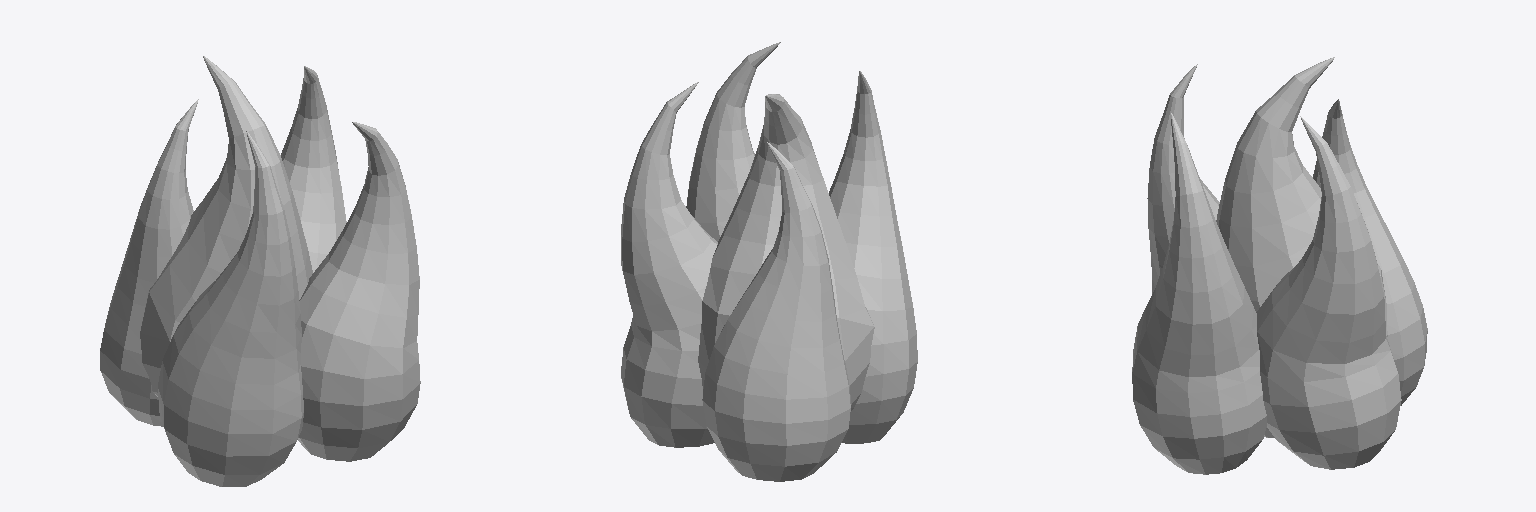
The model's file is fire_000040.obj.
3 views of the same model, side by side, from view 1: azimuth 30°, elevation 25°; view 2: azimuth 150°, elevation 25°; view 3: azimuth 270°, elevation 25° (orthographic).
Visible parts, largest first — view 1: flame_NurbsPath.015; view 2: flame_NurbsPath.015; view 3: flame_NurbsPath.015.
Part boxes in pixels (x1,y1,x2,y2): flame_NurbsPath.015: (100,56,420,486); flame_NurbsPath.015: (621,42,917,481); flame_NurbsPath.015: (1132,57,1427,474).
Bounding box in the file's own units: 0.7403 × 1.13 × 0.8108.